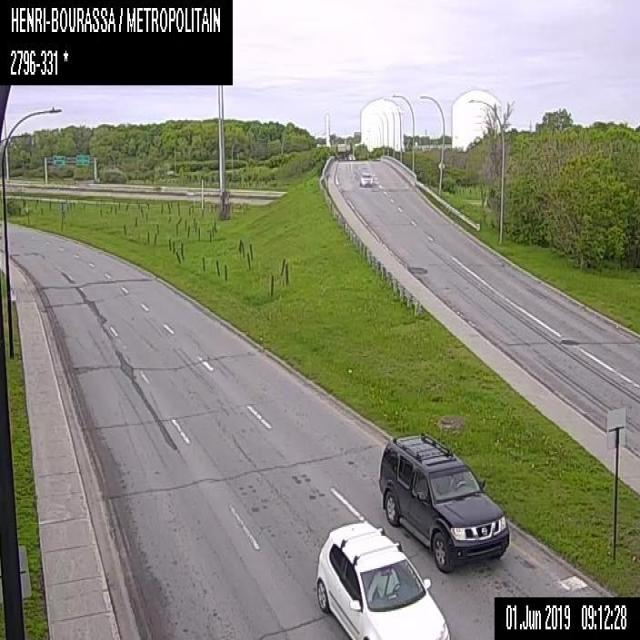vehicle: (377, 429, 508, 572), (315, 518, 449, 638), (359, 171, 372, 185), (347, 152, 355, 160)
